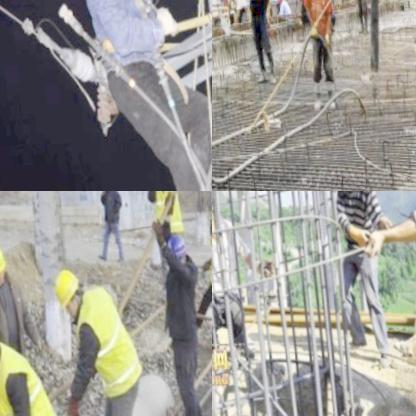helmet: (49, 265, 84, 321), (164, 231, 190, 270), (0, 237, 6, 291), (270, 0, 285, 6)
